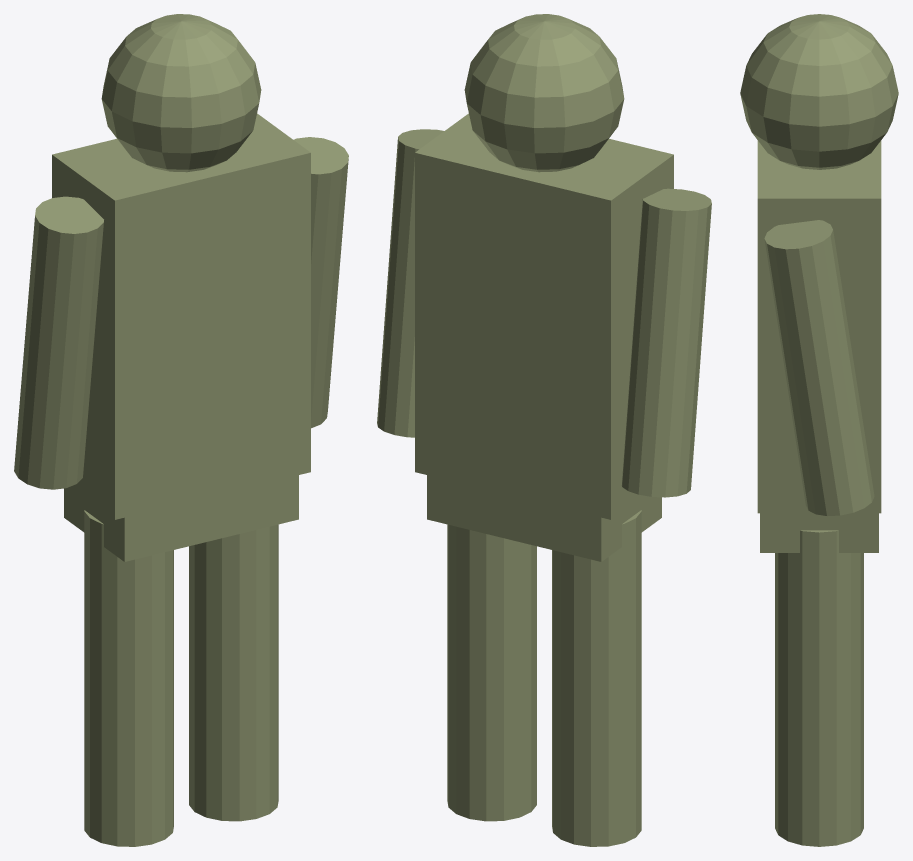
The model's file is trooper.glb.
3 views of the same model, side by side, from view 1: azimuth 30°, elevation 25°; view 2: azimuth 150°, elevation 25°; view 3: azimuth 270°, elevation 25° (orthographic).
Visible parts, largest first — view 1: trooper; view 2: trooper; view 3: trooper.
Boxes of the visible parts, bbox=[...] form: trooper: bbox=[14, 14, 348, 846]; trooper: bbox=[377, 14, 711, 846]; trooper: bbox=[740, 14, 898, 846].
Size of the model in its own units: 0.7 by 1.74 by 0.32.
